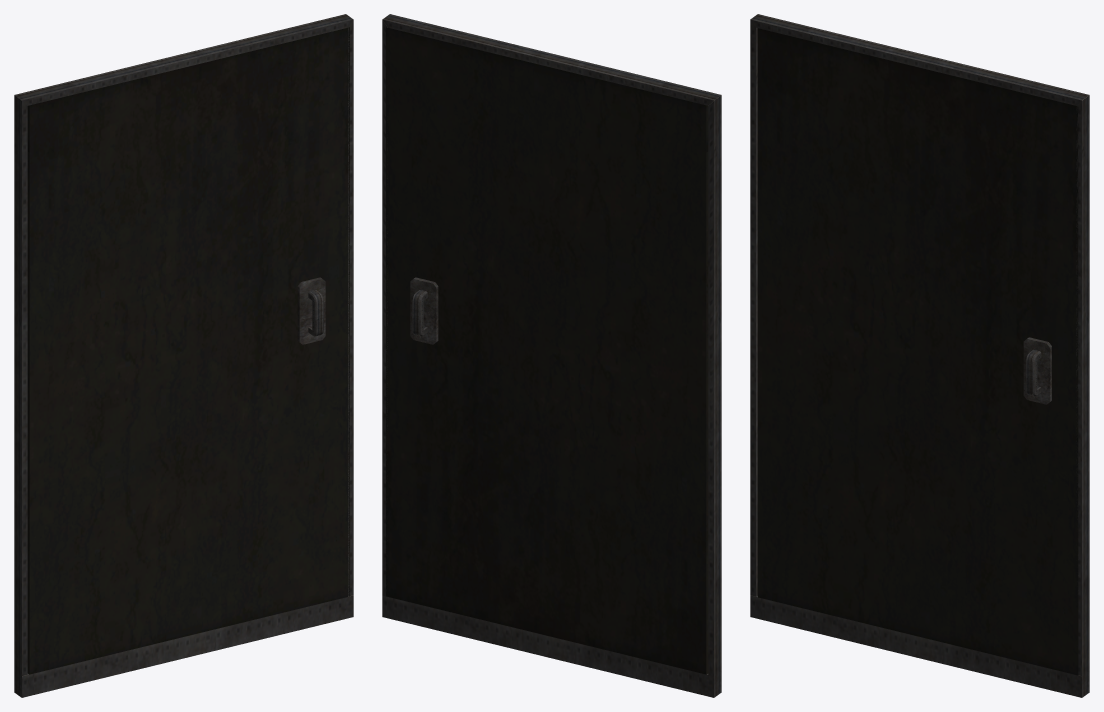
File: swingdoor_lab_glass.dae
3 views of the same model, side by side, from view 1: azimuth 30°, elevation 25°; view 2: azimuth 150°, elevation 25°; view 3: azimuth 330°, elevation 25° (orthographic).
Parts seen in each view (by area): view 1: pCube36, polySurface54; view 2: pCube36, polySurface54; view 3: pCube36, polySurface54.
Boxes of the visible parts, left/top/right/bottom form: pCube36: left=27, top=27, right=349, bottom=674; polySurface54: left=14, top=14, right=353, bottom=697; pCube36: left=386, top=27, right=708, bottom=674; polySurface54: left=382, top=14, right=721, bottom=697; pCube36: left=758, top=28, right=1078, bottom=675; polySurface54: left=750, top=14, right=1089, bottom=697.
Bounding box in the file's own units: 1.74 × 3 × 0.2411.
